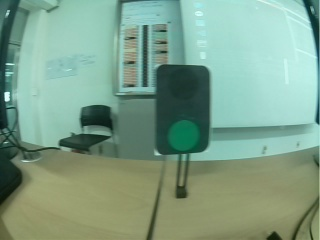green_light: (161, 69, 209, 153)
